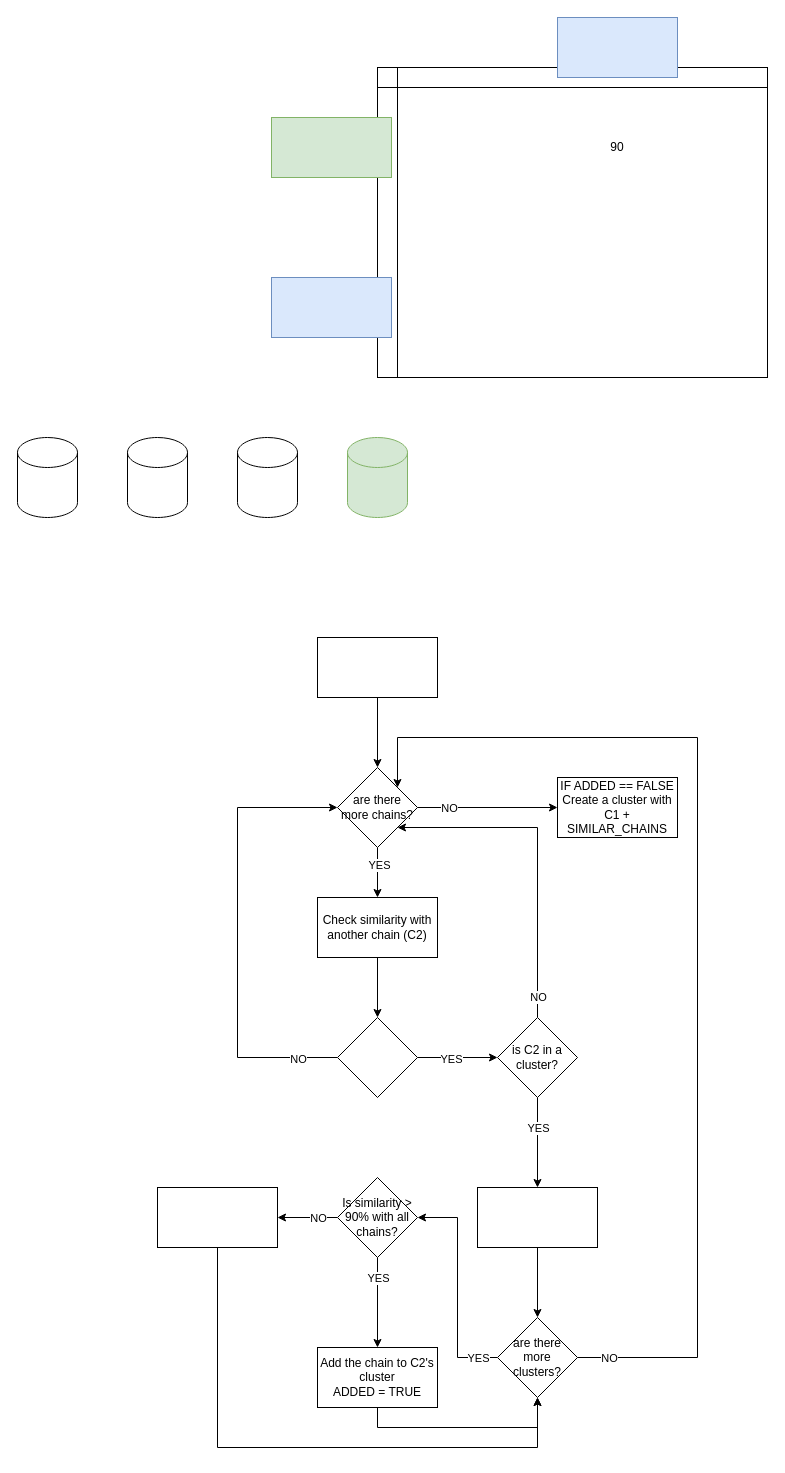
This 785x1473 diagram has some shape labels left out. The shapes that lost their labels are listed below. From the top down, each one's centre as x and y in pixels, then its label:
At pixel 377 667: "pick a chain (C1)".
At pixel 377 1057: "is > 90%".
At pixel 217 1217: "Save the chain C2 in SIMILAR_CHAINS".
At pixel 537 1217: "Check similarity of C1 with chains in all C2's clusters".
